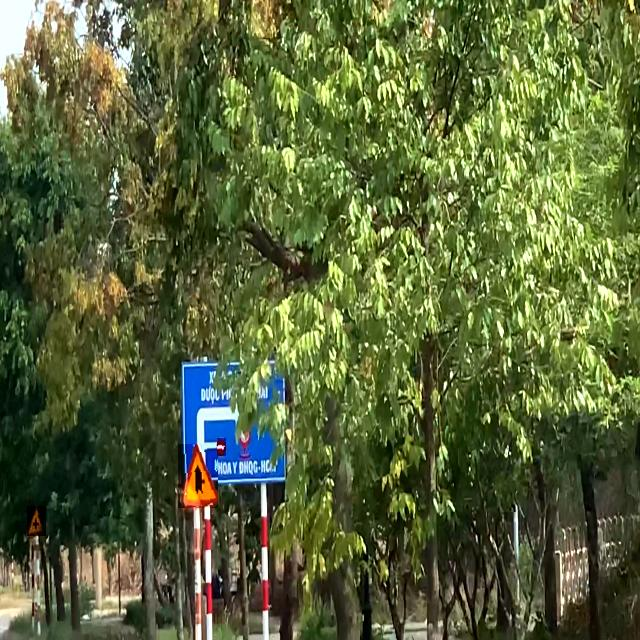41: (27, 506, 46, 536)
45: (178, 444, 218, 508)
bien_chi_dan: (217, 438, 226, 456)
